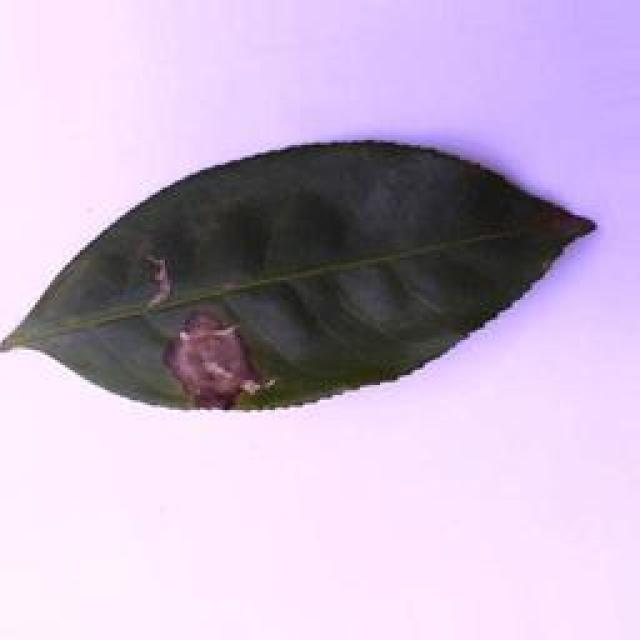Gray Blight: (0, 138, 604, 416)
